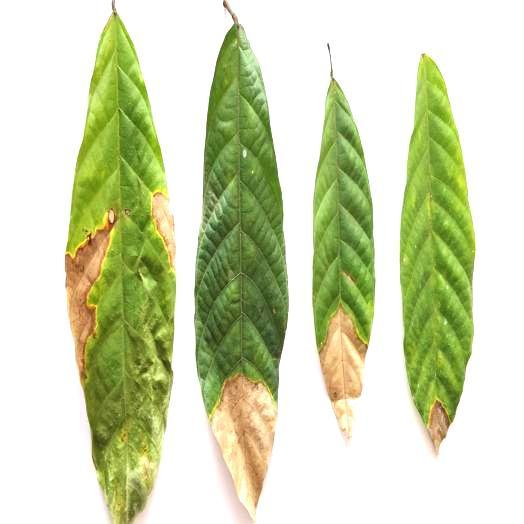Potassium: (65, 0, 175, 523), (196, 0, 287, 518), (400, 55, 474, 452), (313, 45, 373, 437)
